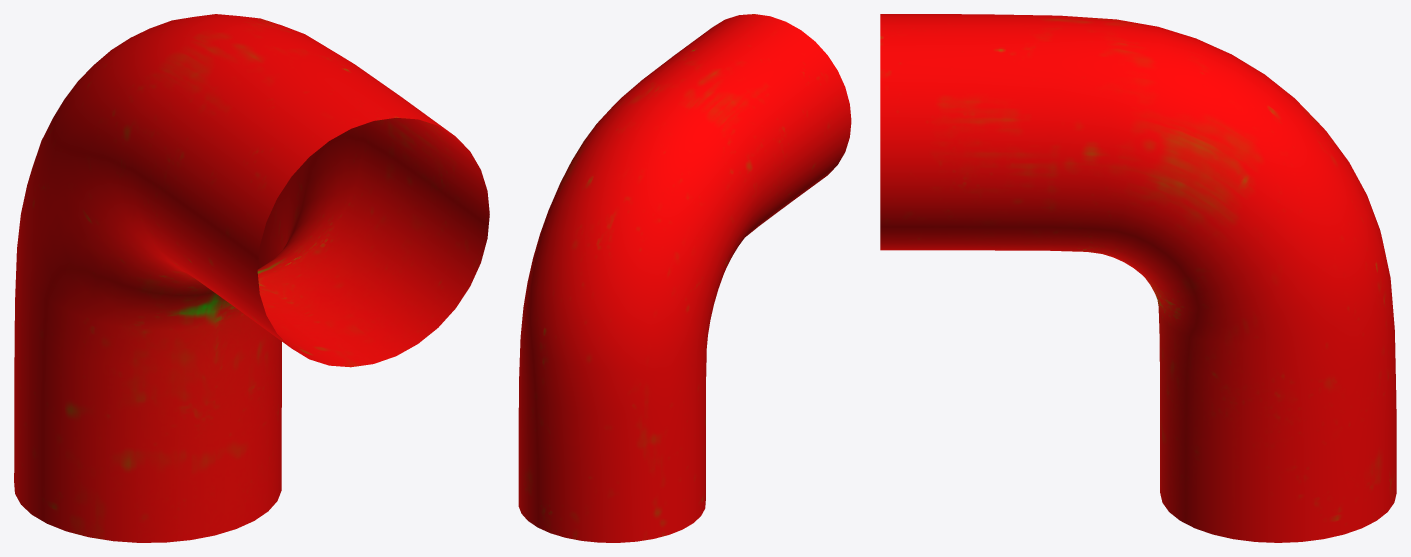
File: SM_PlasticPipe_turning_01.fbx
The picture shows the model from 3 angles, left to right: view 1: azimuth 30°, elevation 25°; view 2: azimuth 150°, elevation 25°; view 3: azimuth 270°, elevation 25°; orthographic projection. The views are drawn at different scales.
Parts seen in each view (by area): view 1: SM_PlasticPipe_turning_01_LOD0; view 2: SM_PlasticPipe_turning_01_LOD0; view 3: SM_PlasticPipe_turning_01_LOD0.
Boxes of the visible parts, x1,y1,x2,y2 form: SM_PlasticPipe_turning_01_LOD0: (14,14,489,542); SM_PlasticPipe_turning_01_LOD0: (518,14,851,542); SM_PlasticPipe_turning_01_LOD0: (880,14,1396,542).
Size of the model in its own units: 14.85 by 32.43 by 32.43.
